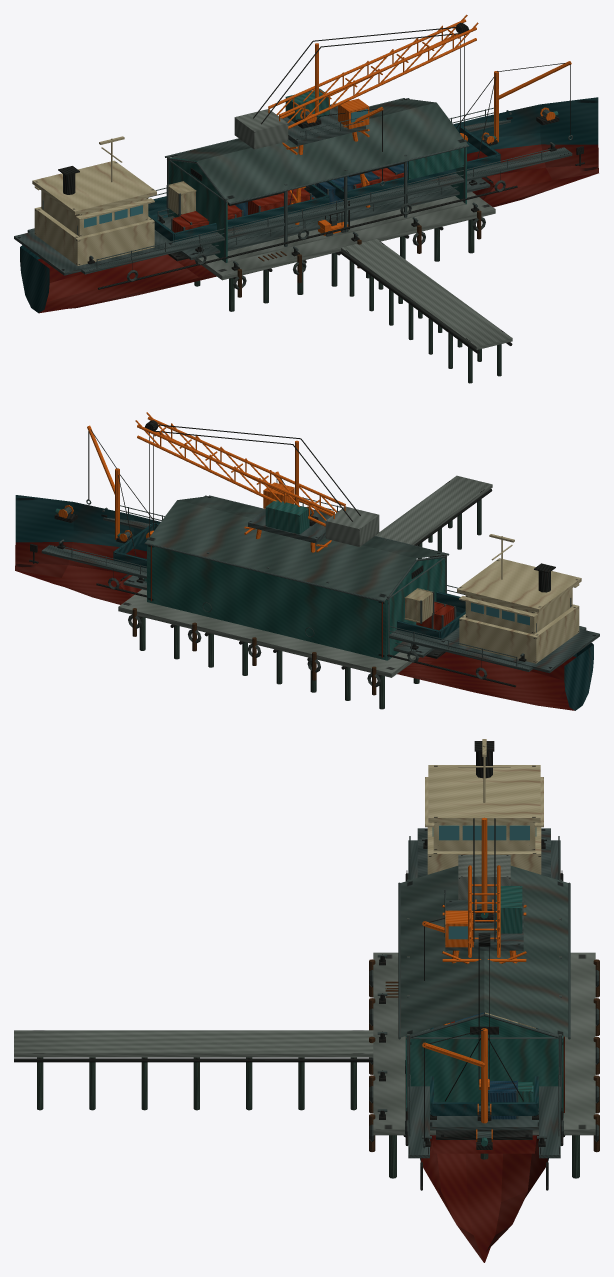
File: coast-harbor-lod.glb
3 renders of one model, top to bottom at view 1: azimuth 30°, elevation 25°; view 2: azimuth 150°, elevation 25°; view 3: azimuth 270°, elevation 25°, orthographic. The views are drawn at different scales.
Parts seen in each view (by area): view 1: cargo-freighter, open-warehouse, loading-pier, harbor-crane, cargo-barge; view 2: cargo-freighter, open-warehouse, loading-pier, harbor-crane, cargo-barge; view 3: cargo-freighter, open-warehouse, loading-pier, harbor-crane, cargo-barge.
Boxes of the visible parts, left/top/right/bottom form: cargo-freighter: left=14, top=61, right=598, bottom=313; open-warehouse: left=165, top=98, right=469, bottom=262; loading-pier: left=194, top=192, right=512, bottom=383; harbor-crane: left=234, top=14, right=478, bottom=224; cargo-barge: left=154, top=161, right=494, bottom=277; cargo-freighter: left=15, top=425, right=599, bottom=710; open-warehouse: left=144, top=495, right=449, bottom=660; loading-pier: left=118, top=475, right=492, bottom=709; harbor-crane: left=135, top=412, right=379, bottom=552; cargo-barge: left=119, top=575, right=459, bottom=675; cargo-freighter: left=405, top=739, right=563, bottom=1262; open-warehouse: left=385, top=866, right=570, bottom=1117; loading-pier: left=14, top=952, right=599, bottom=1178; harbor-crane: left=442, top=817, right=526, bottom=1089; cargo-barge: left=430, top=1012, right=538, bottom=1153.
Bounding box in the file's own units: 66 × 23.75 × 44.84.
